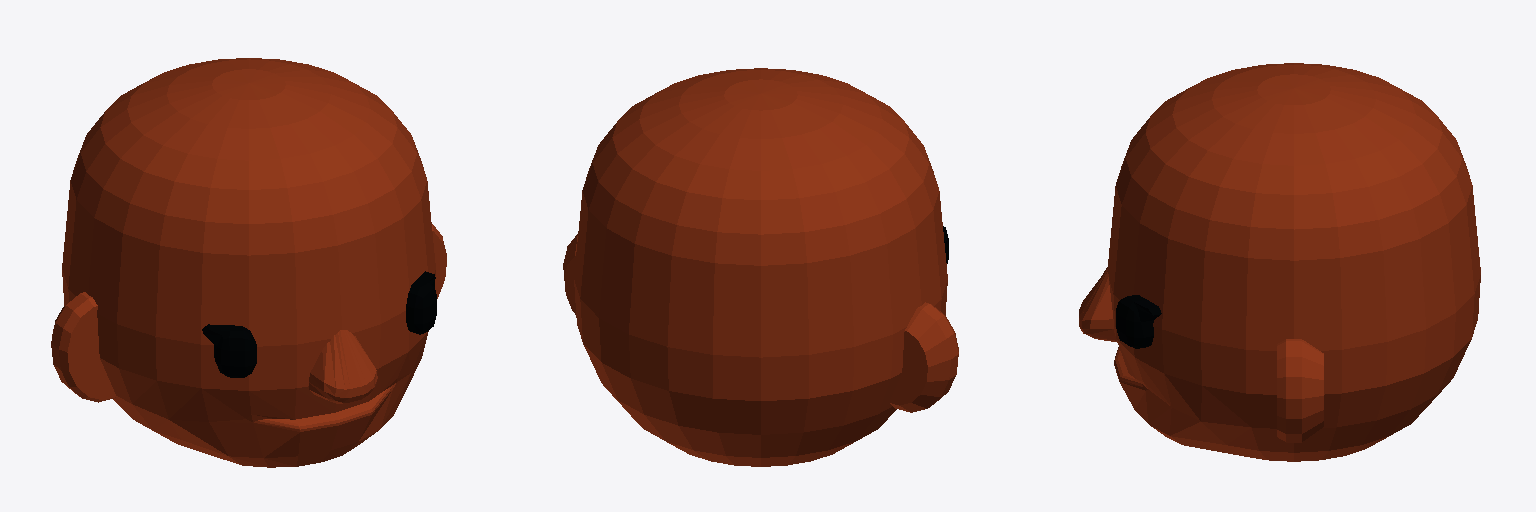
The model's file is rogueHeadB.obj.
3 renders of one model, left to right at view 1: azimuth 30°, elevation 25°; view 2: azimuth 150°, elevation 25°; view 3: azimuth 270°, elevation 25°, orthographic.
Parts seen in each view (by area): view 1: rogueHeadB_Cube.3524; view 2: rogueHeadB_Cube.3524; view 3: rogueHeadB_Cube.3524.
Part boxes in pixels (x1,y1,x2,y2): rogueHeadB_Cube.3524: (51,58,446,467); rogueHeadB_Cube.3524: (563,68,958,466); rogueHeadB_Cube.3524: (1079,63,1480,461).
Bounding box in the file's own units: 1.18 × 0.9703 × 1.05.